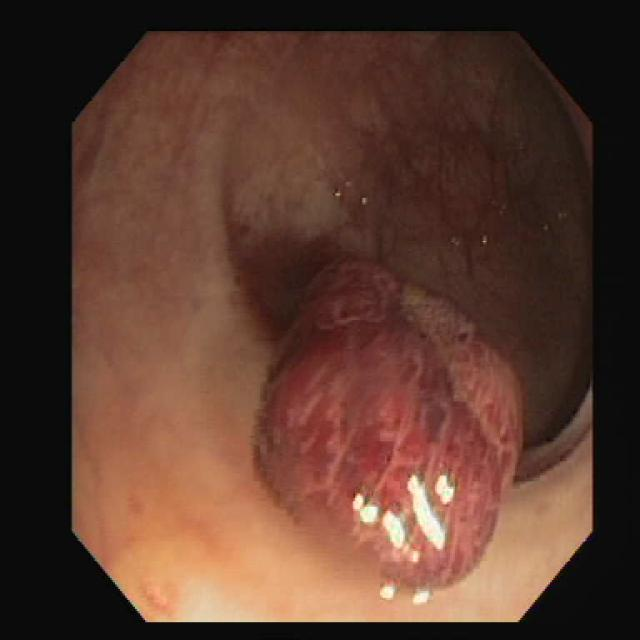tumor: (255, 258, 518, 598)
